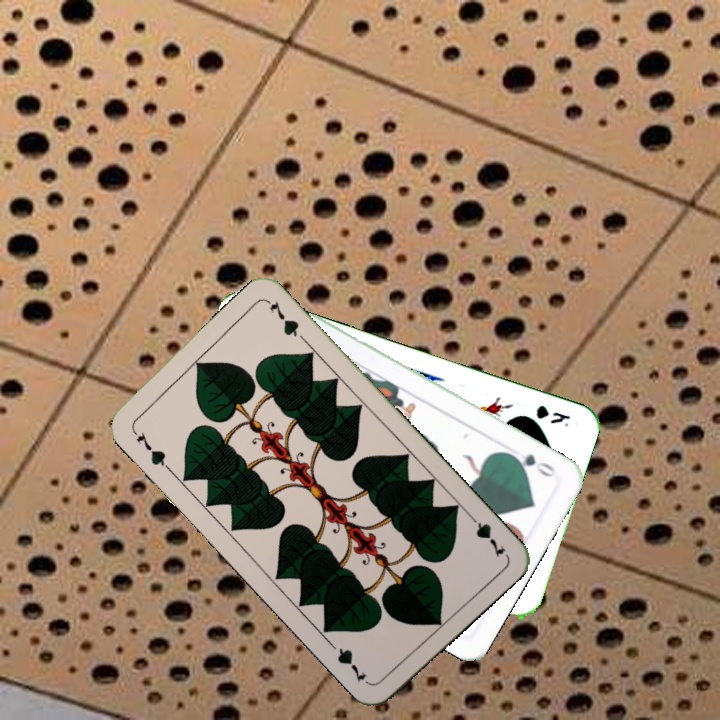G7: (463, 509, 508, 559), (128, 426, 173, 473)
GK: (532, 401, 573, 430)
GO: (503, 449, 558, 480)
